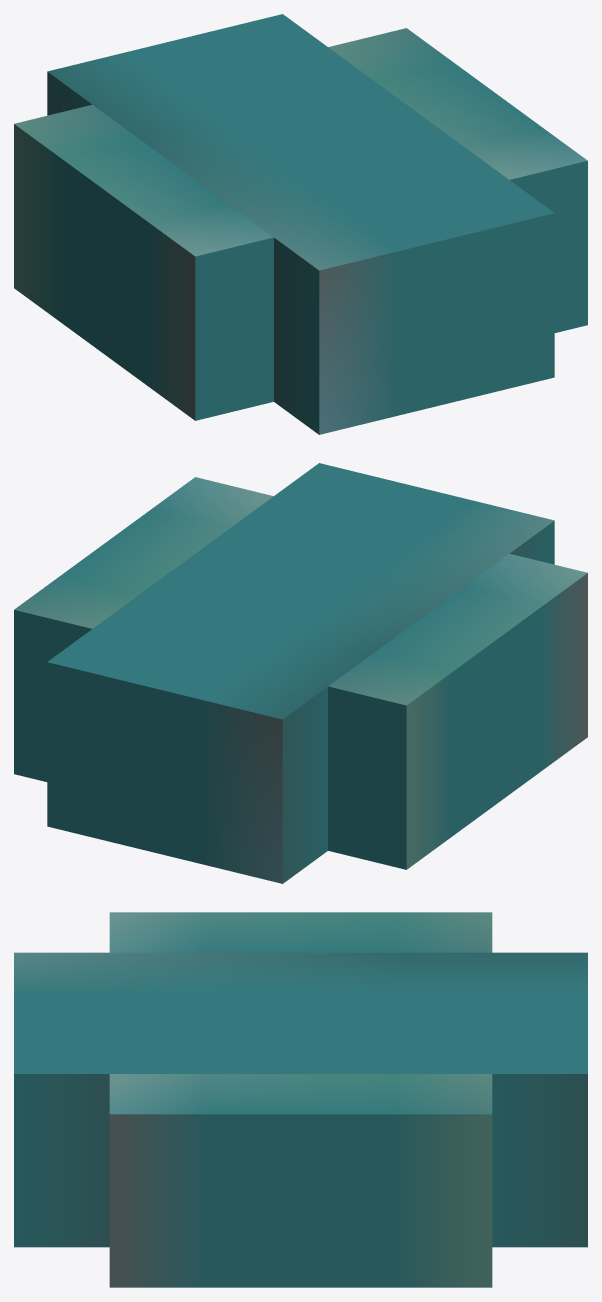
File: PillowSmallBlue_00.fbx
The picture shows the model from 3 angles, top to bottom: view 1: azimuth 30°, elevation 25°; view 2: azimuth 150°, elevation 25°; view 3: azimuth 270°, elevation 25°; orthographic projection. The views are drawn at different scales.
Visible parts, largest first — view 1: PillowSmallBlue_00; view 2: PillowSmallBlue_00; view 3: PillowSmallBlue_00.
Boxes of the visible parts, bbox=[...] form: PillowSmallBlue_00: bbox=[14, 14, 587, 434]; PillowSmallBlue_00: bbox=[14, 463, 587, 883]; PillowSmallBlue_00: bbox=[14, 912, 587, 1287].
Size of the model in its own units: 25 by 30 by 10.
1 material, 1 textured.
